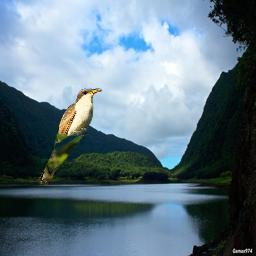Cuckoo: (37, 86, 103, 186)
